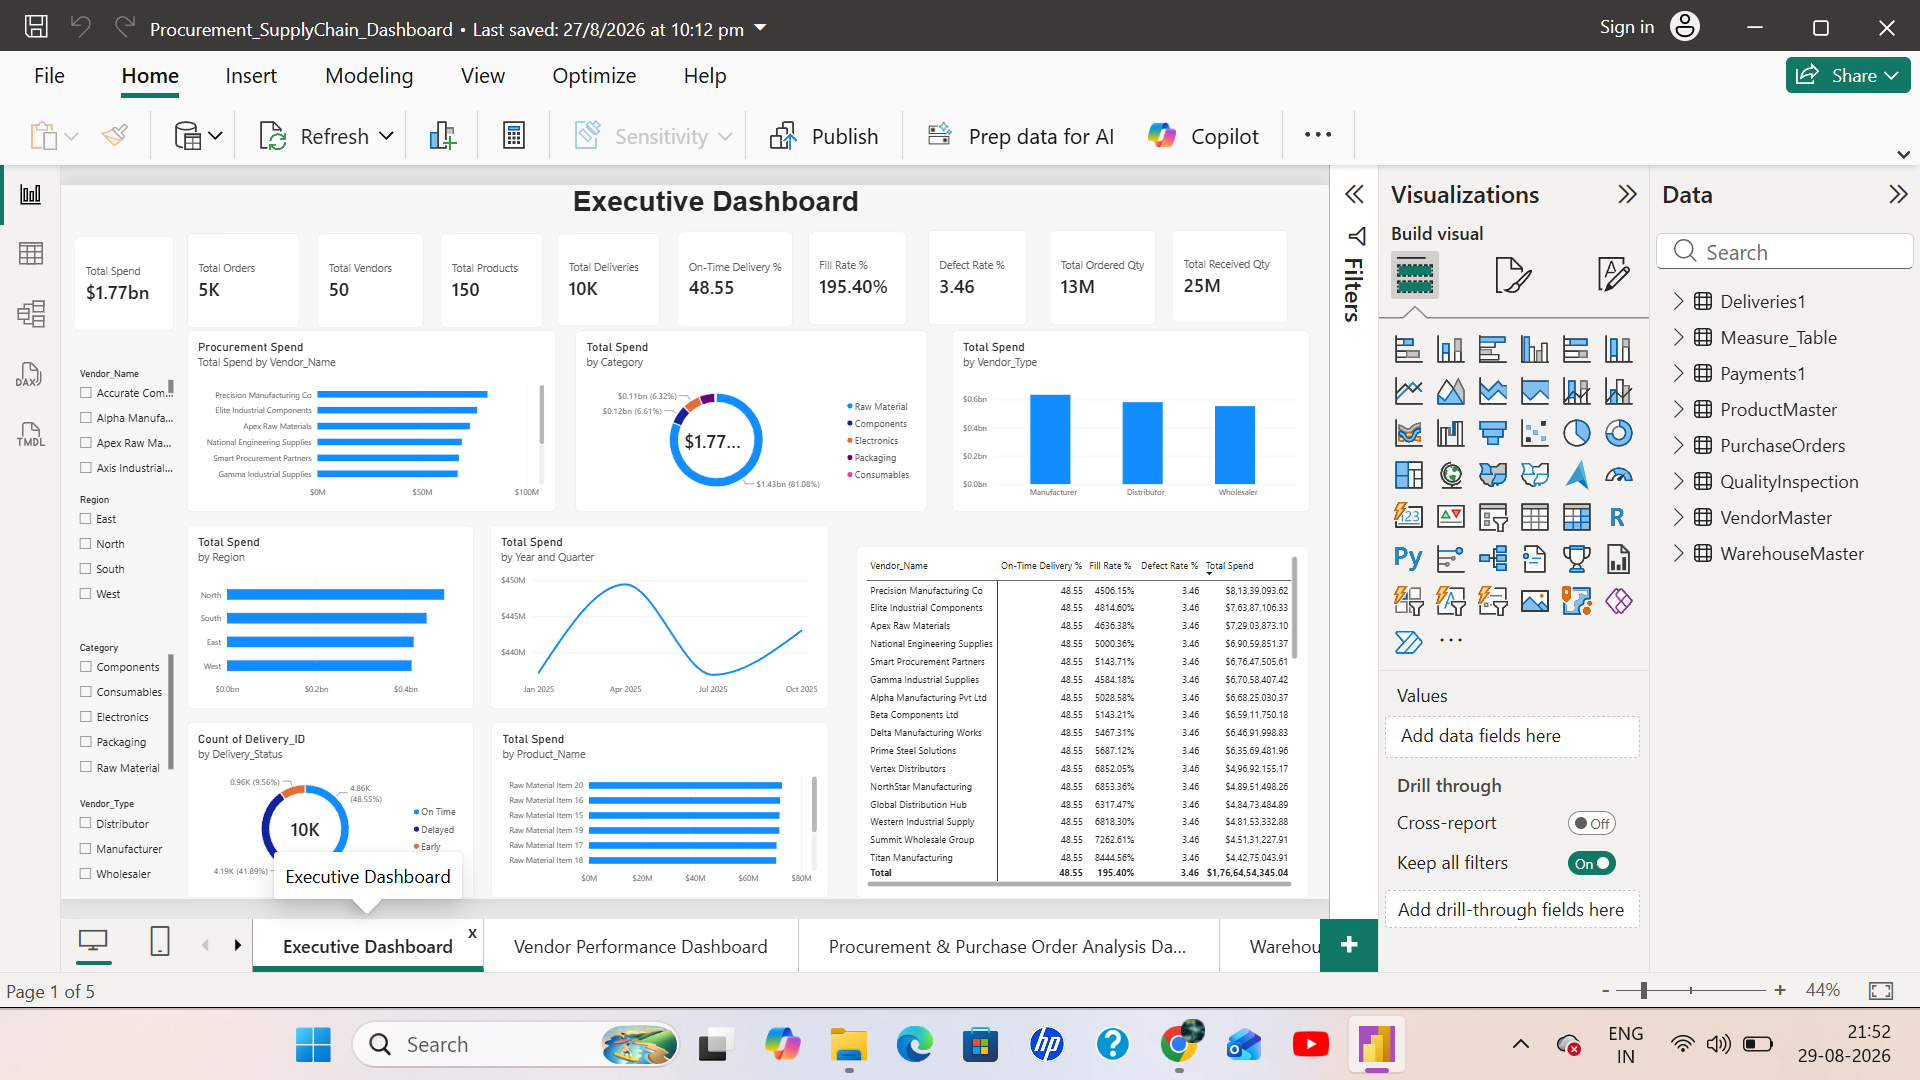

The page's visual inventory and layout, read from the dashboard file:
{"tool":"powerbi","page":{"name":"Executive Dashboard","canvas":[1920,1080],"ordinal":0},"visuals":[{"type":"cardVisual","fields":{"Data":["Measure_Table.Total Spend"]},"box":[19.8,76.5,150.2,144.6],"z":0},{"type":"cardVisual","fields":{"Data":["Measure_Table.Total Orders"]},"box":[189.9,73.7,170.1,144.6],"z":1000},{"type":"cardVisual","fields":{"Data":["Measure_Table.Total Vendors"]},"box":[388.3,73.7,161.6,144.6],"z":2000},{"type":"cardVisual","fields":{"Data":["Measure_Table.Total Products"]},"box":[575.4,73.7,155.9,144.6],"z":3000},{"type":"cardVisual","fields":{"Data":["Measure_Table.Total Deliveries"]},"box":[751.2,73.7,155.9,141.7],"z":4000},{"type":"cardVisual","fields":{"Data":["Measure_Table.On-Time Delivery %"]},"box":[932.6,70.9,175.7,144.6],"z":5000},{"type":"cardVisual","fields":{"Data":["Measure_Table.Fill Rate %"]},"box":[1131,70.9,150.2,141.7],"z":6000},{"type":"cardVisual","fields":{"Data":["Measure_Table.Defect Rate %"]},"box":[1312.5,68,150.2,144.6],"z":7000},{"type":"cardVisual","fields":{"Data":["Measure_Table.Total Ordered Qty"]},"box":[1496.7,68,161.6,144.6],"z":8000},{"type":"cardVisual","fields":{"Data":["Measure_Table.Total Received Qty"]},"box":[1683.8,68,175.7,141.7],"z":9000},{"type":"clusteredBarChart","title":"Procurement Spend","fields":{"Category":["VendorMaster.Vendor_Name"],"Y":["Measure_Table.Total Spend"]},"box":[189.9,221.1,558.4,275],"z":10000},{"type":"donutChart","fields":{"Category":["ProductMaster.Category"],"Y":["Measure_Table.Total Spend"]},"box":[779.5,221.1,532.9,275],"z":10001},{"type":"columnChart","fields":{"Category":["VendorMaster.Vendor_Type"],"Y":["Measure_Table.Total Spend"]},"box":[1349.3,221.1,541.4,275],"z":10002},{"type":"barChart","fields":{"Category":["VendorMaster.Region"],"Y":["Measure_Table.Total Spend"]},"box":[189.9,515.9,433.7,277.8],"z":10003},{"type":"slicer","fields":{"Values":["VendorMaster.Vendor_Name"]},"box":[19.8,277.8,150.2,164.4],"z":10004},{"type":"slicer","fields":{"Values":["VendorMaster.Region"]},"box":[19.8,467.7,150.2,187.1],"z":10005},{"type":"slicer","fields":{"Values":["ProductMaster.Category"]},"box":[19.8,691.7,150.2,204.1],"z":10006},{"type":"slicer","fields":{"Values":["VendorMaster.Vendor_Type"]},"box":[19.8,929.8,150.2,150.2],"z":10007},{"type":"clusteredBarChart","fields":{"Category":["ProductMaster.Product_Name"],"Y":["Measure_Table.Total Spend"]},"box":[652,813.5,510.2,266.5],"z":10008},{"type":"lineChart","fields":{"Category":["PurchaseOrders.PO_Date.Variation.Date Hierarchy.Year","PurchaseOrders.PO_Date.Variation.Date Hierarchy.Quarter","PurchaseOrders.PO_Date.Variation.Date Hierarchy.Month","PurchaseOrders.PO_Date.Variation.Date Hierarchy.Day"],"Y":["Measure_Table.Total Spend"]},"box":[649.1,515.9,513.1,277.8],"z":10009},{"type":"donutChart","fields":{"Category":["Deliveries1.Delivery_Status"],"Y":["CountNonNull(Deliveries1.Delivery_ID)"]},"box":[189.9,813.5,433.7,266.5],"z":10010},{"type":"pivotTable","fields":{"Rows":["VendorMaster.Vendor_Name"],"Values":["Measure_Table.On-Time Delivery %","Measure_Table.Fill Rate %","Measure_Table.Defect Rate %","Measure_Table.Total Spend"]},"box":[1204.7,547.1,686,532.9],"z":10011},{"type":"textbox","box":[360,0,1261.4,73.7],"z":10012}]}

Visuals, with their boxes on the page's 1920x1080 design canvas (x1, y1, x2, y2). These are canvas units, not pixel positions in the 1920x1080 screenshot, which may show the page scaled, cropped or inside an application window:
cardVisual - Measure_Table.Total Spend: 20 76 170 221
cardVisual - Measure_Table.Total Orders: 190 74 360 218
cardVisual - Measure_Table.Total Vendors: 388 74 550 218
cardVisual - Measure_Table.Total Products: 575 74 731 218
cardVisual - Measure_Table.Total Deliveries: 751 74 907 215
cardVisual - Measure_Table.On-Time Delivery %: 933 71 1108 216
cardVisual - Measure_Table.Fill Rate %: 1131 71 1281 213
cardVisual - Measure_Table.Defect Rate %: 1312 68 1463 213
cardVisual - Measure_Table.Total Ordered Qty: 1497 68 1658 213
cardVisual - Measure_Table.Total Received Qty: 1684 68 1860 210
"Procurement Spend" clusteredBarChart: 190 221 748 496
donutChart - ProductMaster.Category x Measure_Table.Total Spend: 780 221 1312 496
columnChart - VendorMaster.Vendor_Type x Measure_Table.Total Spend: 1349 221 1891 496
barChart - VendorMaster.Region x Measure_Table.Total Spend: 190 516 624 794
slicer - VendorMaster.Vendor_Name: 20 278 170 442
slicer - VendorMaster.Region: 20 468 170 655
slicer - ProductMaster.Category: 20 692 170 896
slicer - VendorMaster.Vendor_Type: 20 930 170 1080
clusteredBarChart - ProductMaster.Product_Name x Measure_Table.Total Spend: 652 814 1162 1080
lineChart - PurchaseOrders.PO_Date.Variation.Date Hierarchy.Year x PurchaseOrders.PO_Date.Variation.Date Hierarchy.Quarter: 649 516 1162 794
donutChart - Deliveries1.Delivery_Status x CountNonNull(Deliveries1.Delivery_ID): 190 814 624 1080
pivotTable - VendorMaster.Vendor_Name x Measure_Table.On-Time Delivery %: 1205 547 1891 1080
textbox: 360 0 1621 74
